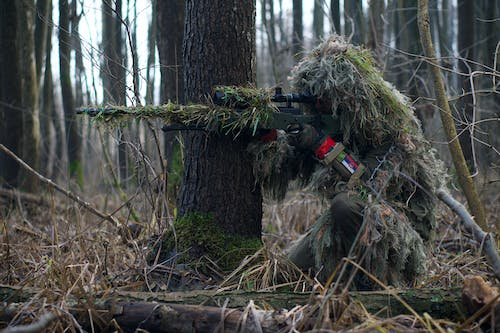gun: (74, 84, 344, 136)
